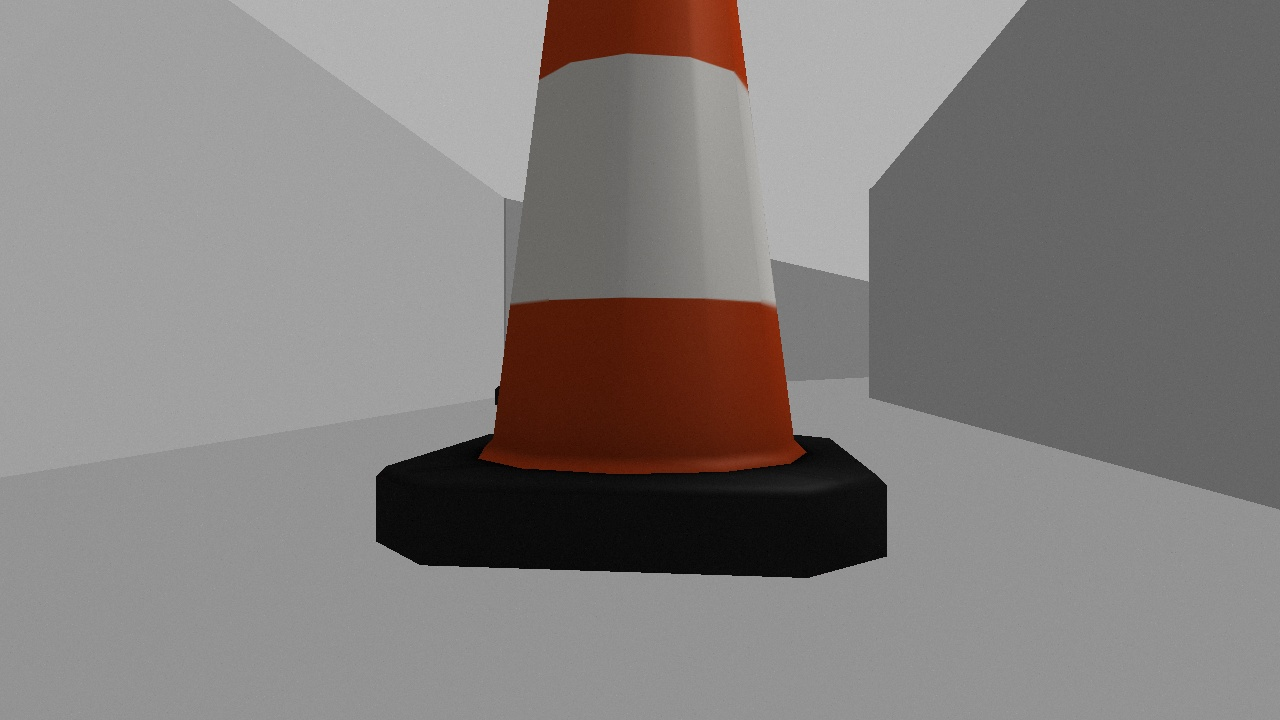barricade: (371, 1, 892, 582)
